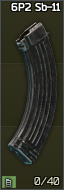AK 7.62x39 Molot 40-round magazine 6P2.Sb-11: (0, 0, 64, 190)
